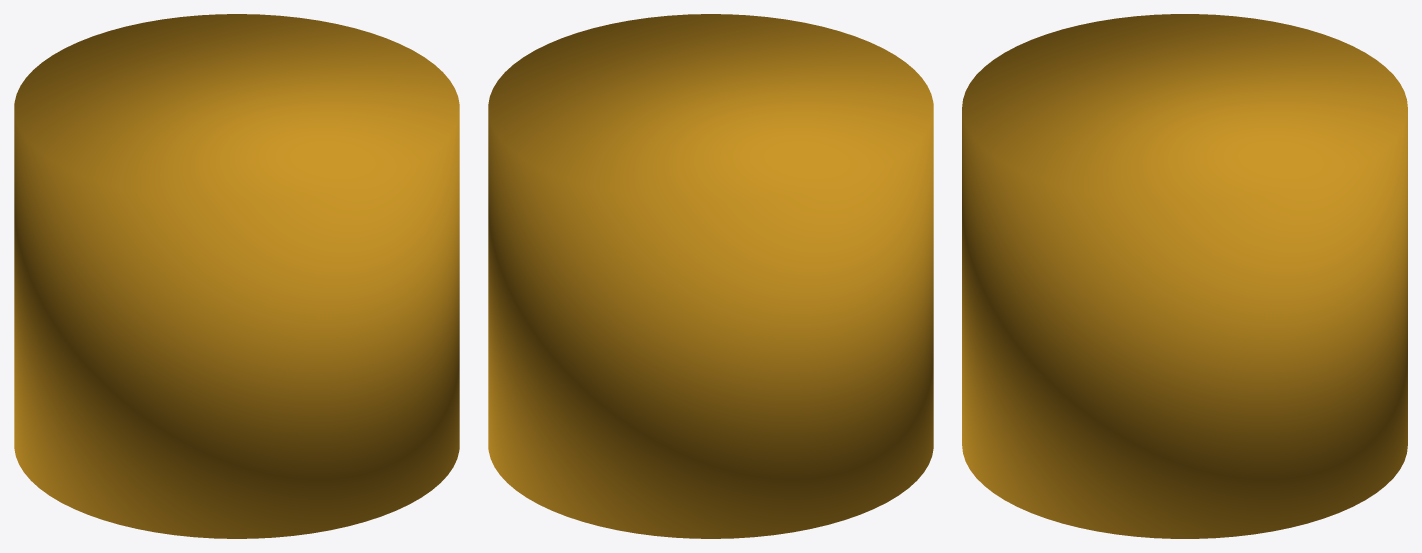
The model's file is cilindro.obj.
3 views of the same model, side by side, from view 1: azimuth 30°, elevation 25°; view 2: azimuth 150°, elevation 25°; view 3: azimuth 270°, elevation 25° (orthographic).
Parts seen in each view (by area): view 1: cilindro; view 2: cilindro; view 3: cilindro.
Boxes of the visible parts, x1,y1,x2,y2 form: cilindro: [14, 14, 459, 538]; cilindro: [488, 14, 933, 538]; cilindro: [962, 14, 1407, 538].
Bounding box in the file's own units: 3 × 2.5 × 3.
